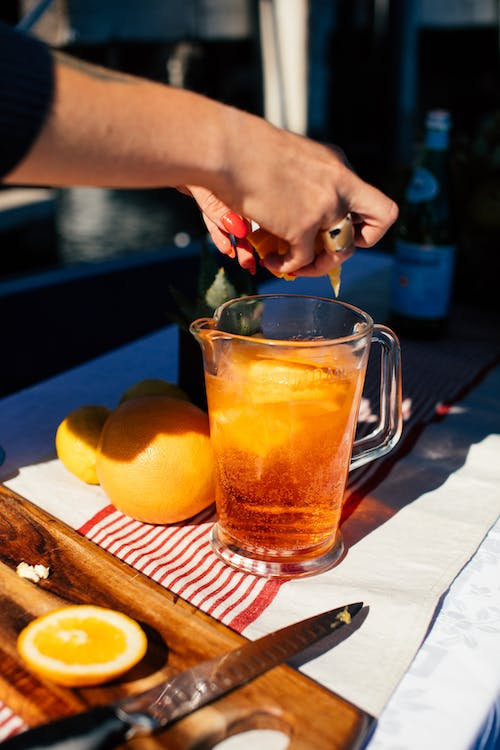knife: (0, 597, 367, 750)
